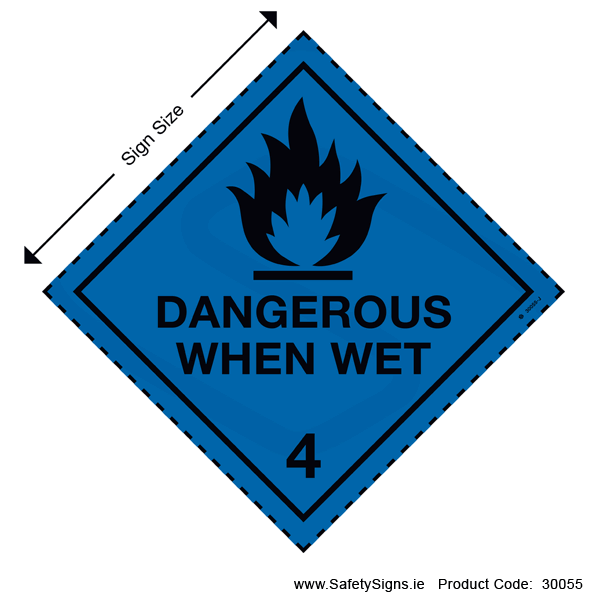Dangerous when wet: (43, 31, 566, 553)
